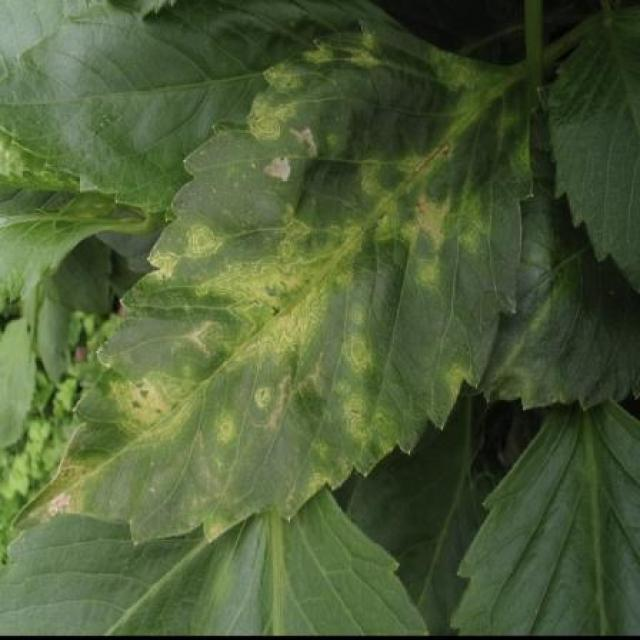Mosaic Virus: (12, 22, 537, 549)
